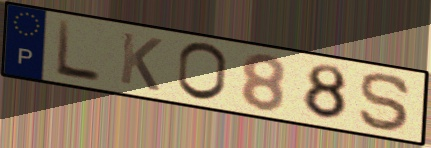8: (239, 51, 289, 114), (298, 63, 350, 123)
K: (117, 29, 165, 94)
L: (54, 18, 103, 85)
O: (174, 40, 230, 104)
S: (356, 70, 414, 134)
